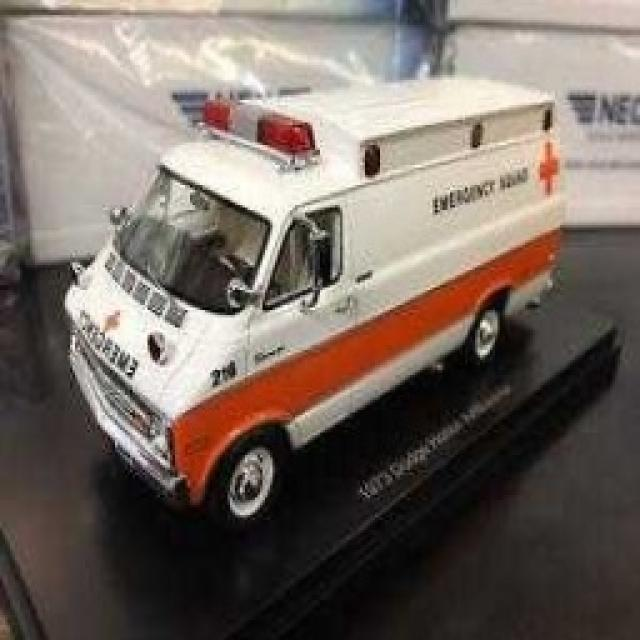emergency-vehicle: (70, 80, 566, 525)
